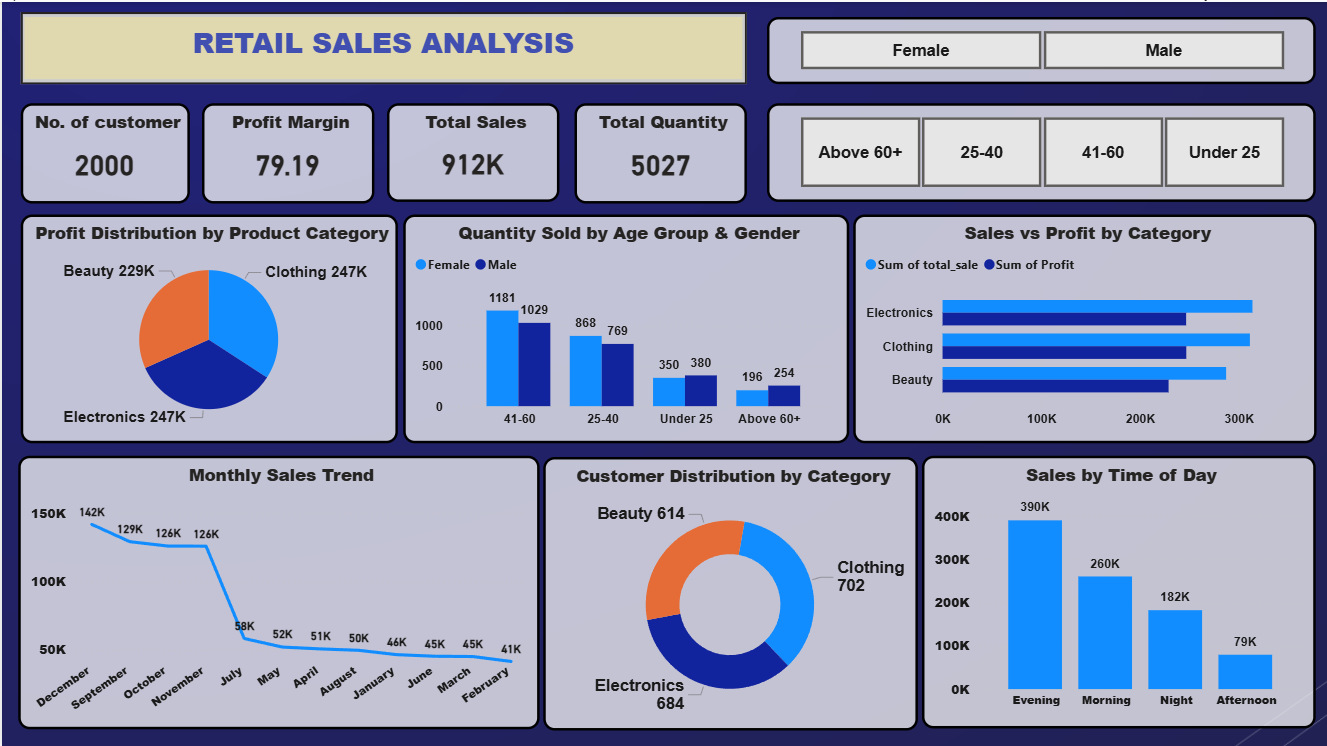

What the dashboard file says about the page in this screenshot:
{"tool":"powerbi","page":{"name":"Dashboard","canvas":[1280,720],"ordinal":0},"visuals":[{"type":"shape","box":[18.1,9.7,700.9,70],"z":0},{"type":"textbox","box":[21.7,14.5,692.5,60.3],"z":1000},{"type":"card","title":"No. of customer","fields":{"Values":["public retail.total_customer"]},"box":[18.1,97.7,162.9,96.5],"z":2000},{"type":"card","title":"Total Quantity","fields":{"Values":["public retail.total_quantity"]},"box":[552.5,97.7,166.5,96.5],"z":3000},{"type":"card","title":"Total Sales","fields":{"Values":["Sum(public retail.total_sale)"]},"box":[371.6,97.7,166.5,95.3],"z":4000},{"type":"card","title":"Profit Margin","fields":{"Values":["public retail.Profit Margin %"]},"box":[193,97.7,166.5,96.5],"z":5000},{"type":"clusteredColumnChart","title":"Sales by Time of Day","fields":{"Category":["public retail.Time Slot"],"Y":["Sum(public retail.total_sale)"]},"box":[887.9,437.9,380,263],"z":6000},{"type":"pieChart","title":"Profit Distribution by Product Category","fields":{"Category":["public retail.category"],"Y":["Sum(public retail.Profit)"]},"box":[18.1,205.1,364.3,220.8],"z":7000},{"type":"lineChart","title":"Monthly Sales Trend","fields":{"Category":["public retail.sales_month"],"Y":["Sum(public retail.total_sale)"]},"box":[15.7,437.9,503.1,264.2],"z":8000},{"type":"donutChart","title":"Customer Distribution by Category","fields":{"Category":["public retail.category"],"Y":["public retail.total_customer"]},"box":[522.4,439.1,361.9,264.2],"z":9000},{"type":"clusteredColumnChart","title":"Quantity Sold by Age Group & Gender","fields":{"Category":["public retail.Age Group"],"Y":["public retail.total_quantity"],"Series":["public retail.gender"]},"box":[387.3,205.1,430.7,220.8],"z":10000},{"type":"slicer","fields":{"Values":["public retail.gender"]},"box":[738.3,14.5,529.6,65.1],"z":11000},{"type":"slicer","fields":{"Values":["public retail.Age Group"]},"box":[738.3,97.7,529.6,95.3],"z":12000},{"type":"clusteredBarChart","title":"Sales vs Profit by Category","fields":{"Category":["public retail.category"],"Y":["Sum(public retail.total_sale)","Sum(public retail.Profit)"]},"box":[821.6,205.1,447.6,220.8],"z":13000}]}

Visuals, with their boxes in screenshot pixels (x1, y1, x2, y2), scaled from the page's 1280x720 canvas onto the 1327x746 screenshot:
shape: rect(19, 10, 745, 83)
textbox: rect(22, 15, 740, 78)
"No. of customer" card: rect(19, 101, 188, 201)
"Total Quantity" card: rect(573, 101, 745, 201)
"Total Sales" card: rect(385, 101, 558, 200)
"Profit Margin" card: rect(200, 101, 373, 201)
"Sales by Time of Day" clusteredColumnChart: rect(921, 454, 1314, 726)
"Profit Distribution by Product Category" pieChart: rect(19, 213, 396, 441)
"Monthly Sales Trend" lineChart: rect(16, 454, 538, 727)
"Customer Distribution by Category" donutChart: rect(542, 455, 917, 729)
"Quantity Sold by Age Group & Gender" clusteredColumnChart: rect(402, 213, 848, 441)
slicer - public retail.gender: rect(765, 15, 1314, 82)
slicer - public retail.Age Group: rect(765, 101, 1314, 200)
"Sales vs Profit by Category" clusteredBarChart: rect(852, 213, 1316, 441)
